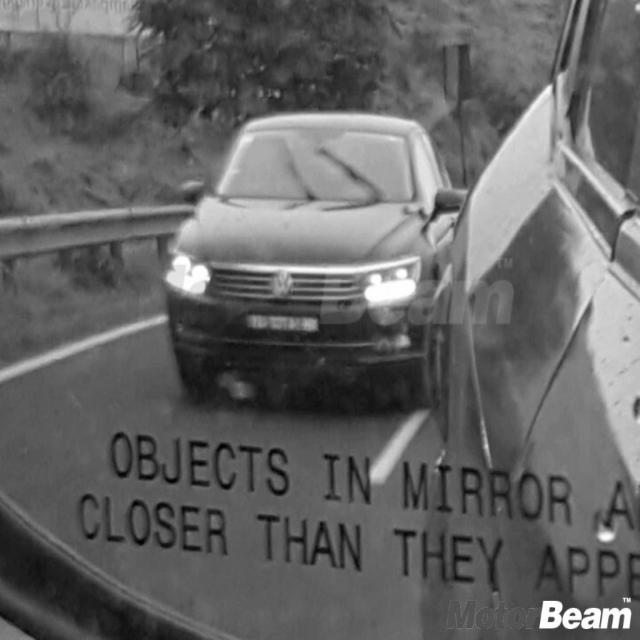car: (166, 106, 448, 404)
license-plate: (241, 312, 325, 331)
